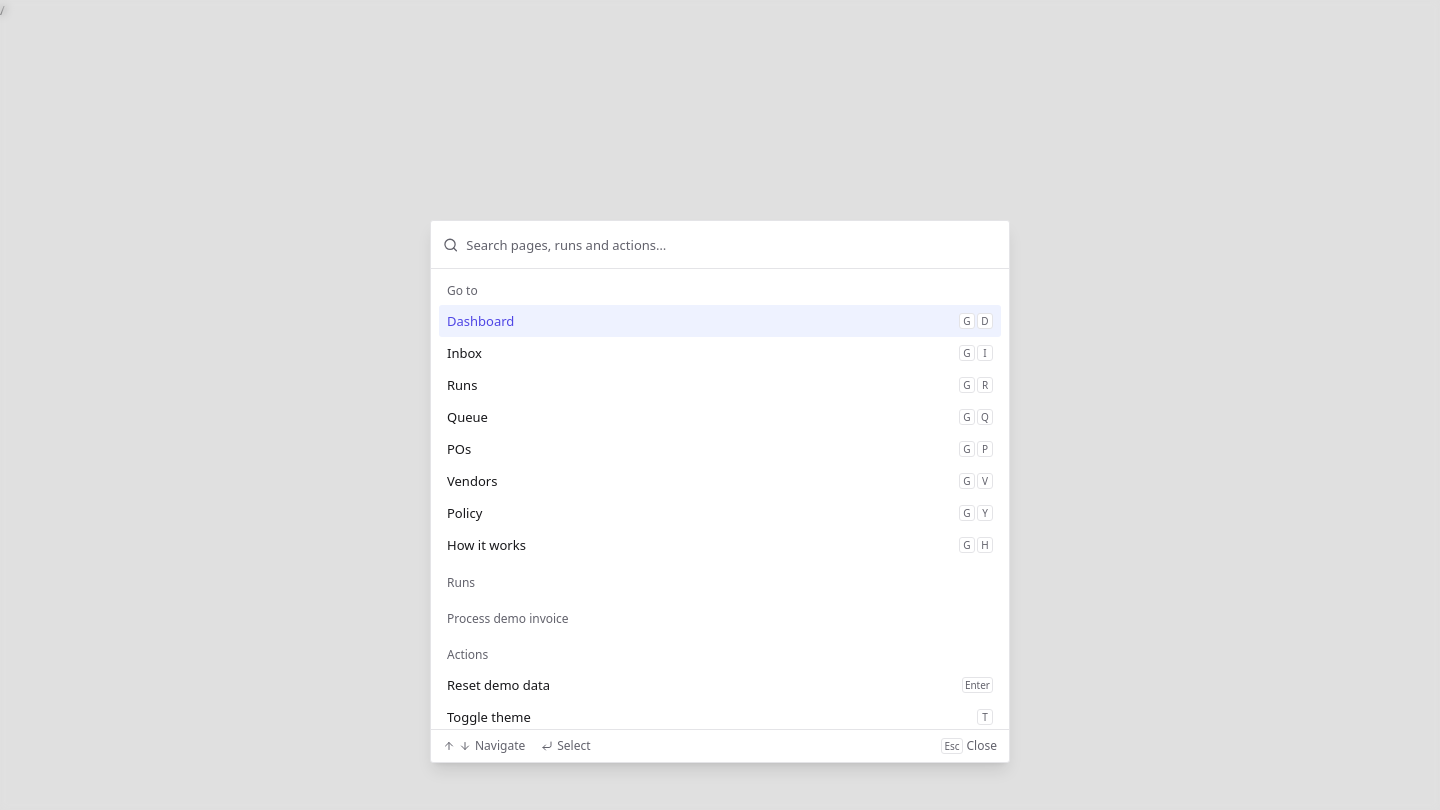
Test: command palette › searches the runs API and navigates to a selected destination
Step 1. Type "SPI/26" into the dropdown named "Search commands" → (732, 244), box [466,221,997,268]
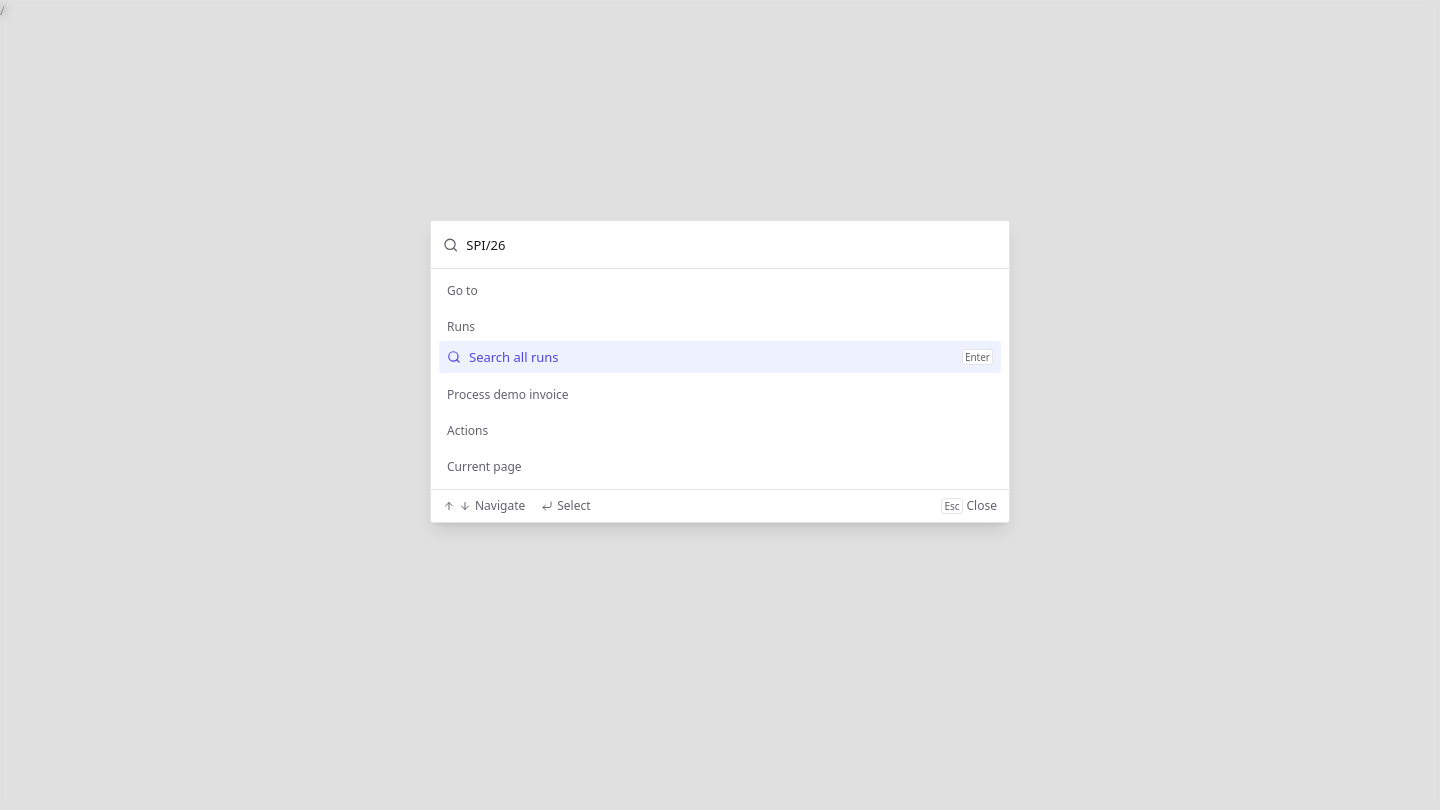
Step 2. Replace the text in the dropdown named "Search commands" with "Vendors" → (732, 244), box [466,221,997,268]
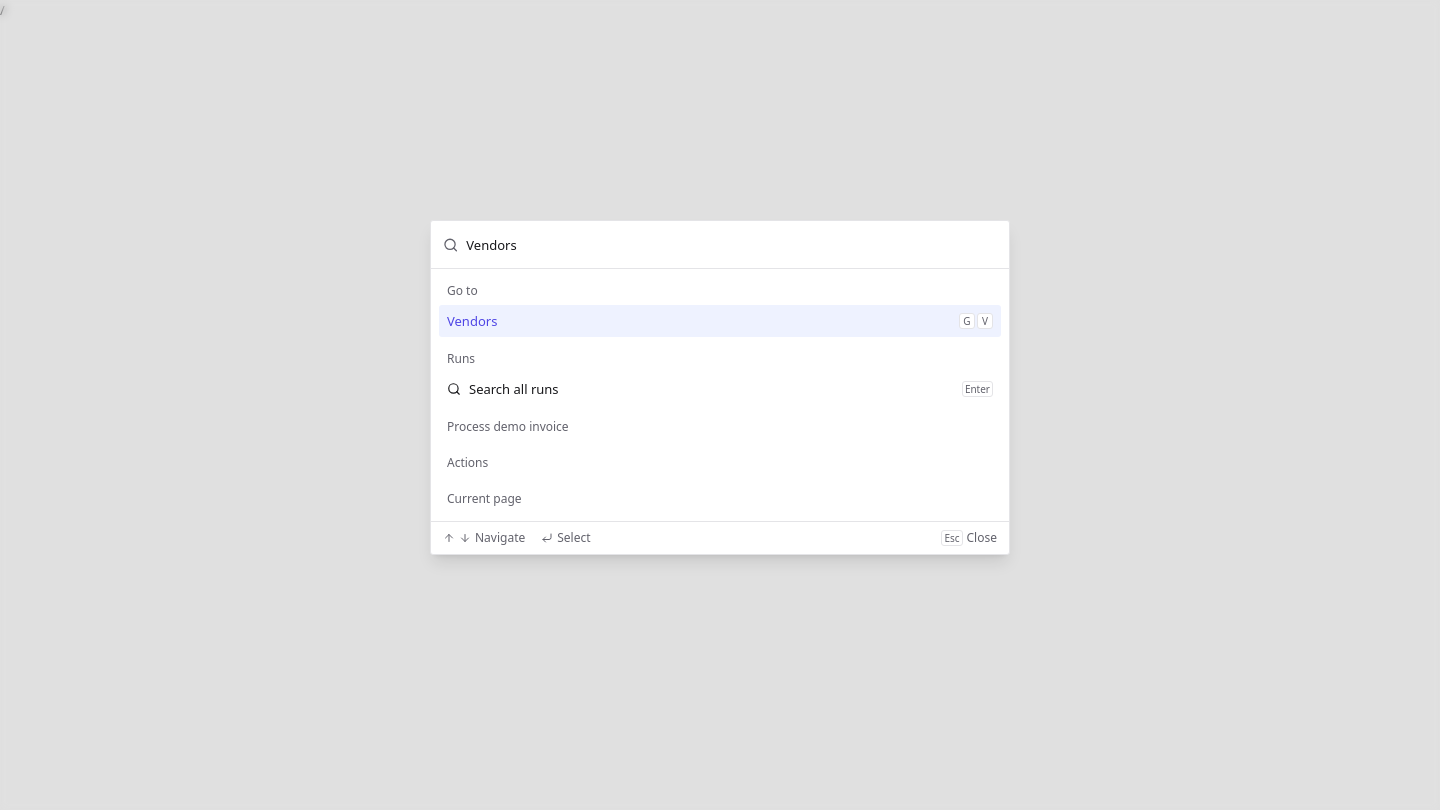
Step 3. Click the option "Vendors G V" → (472, 321), box [439,305,1001,337]
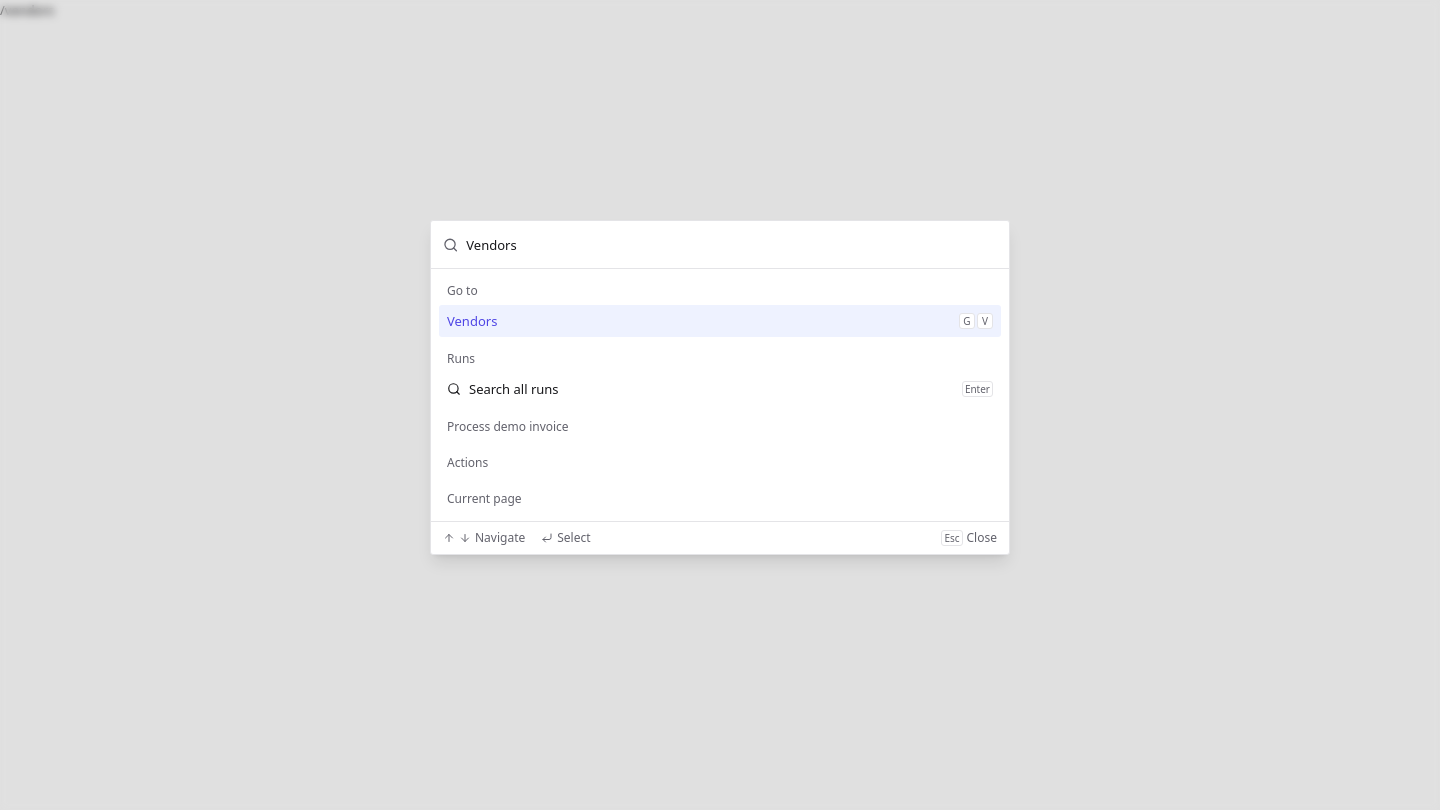
Expected: the text "/vendors" is shown, [0,1,54,19]
